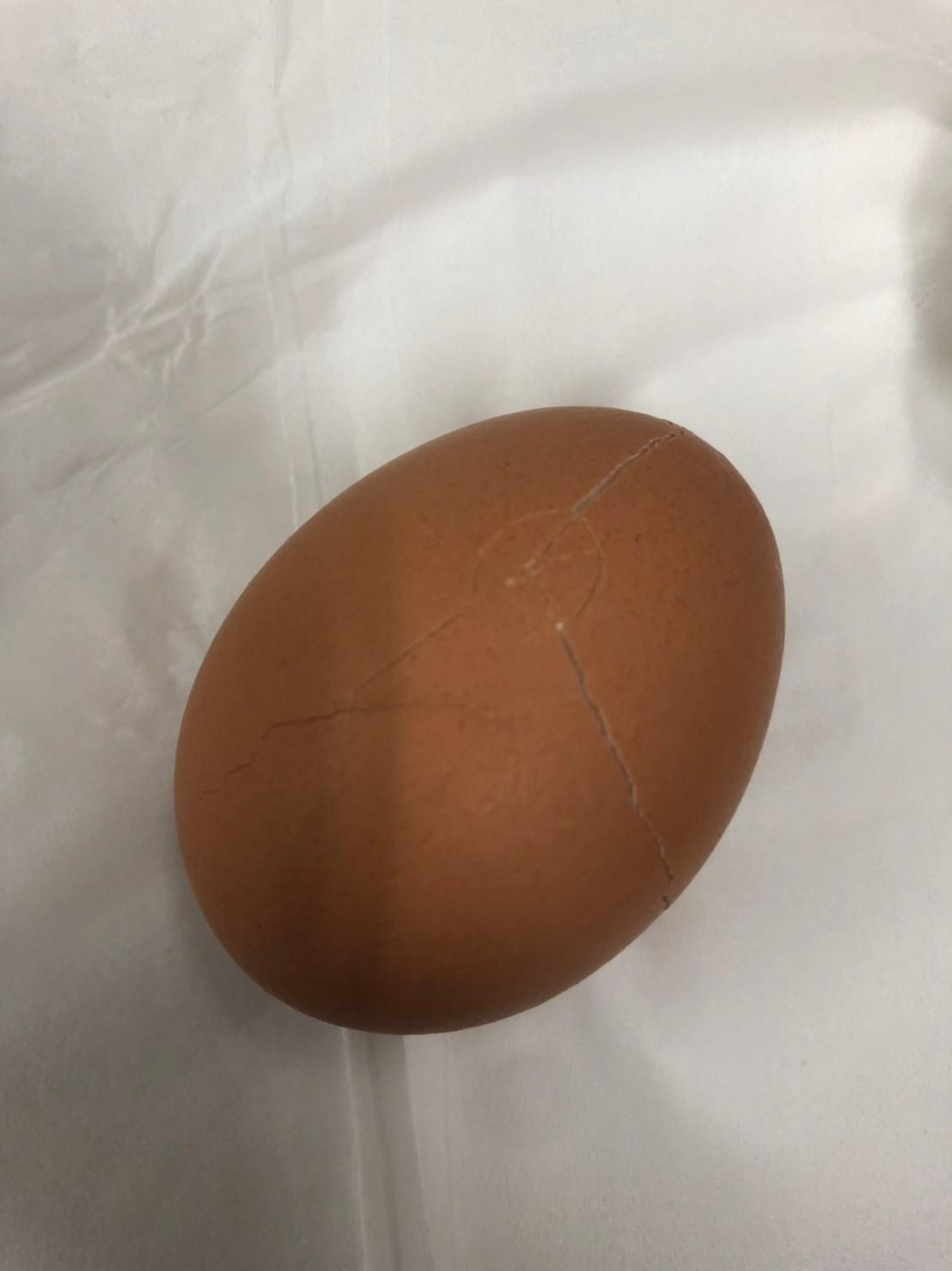egg: (171, 393, 797, 1042)
